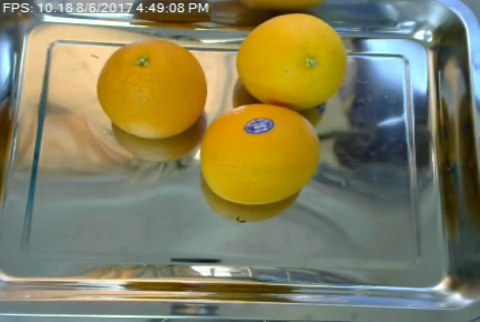Orange: (199, 105, 319, 203), (97, 39, 208, 139), (236, 13, 346, 110)
